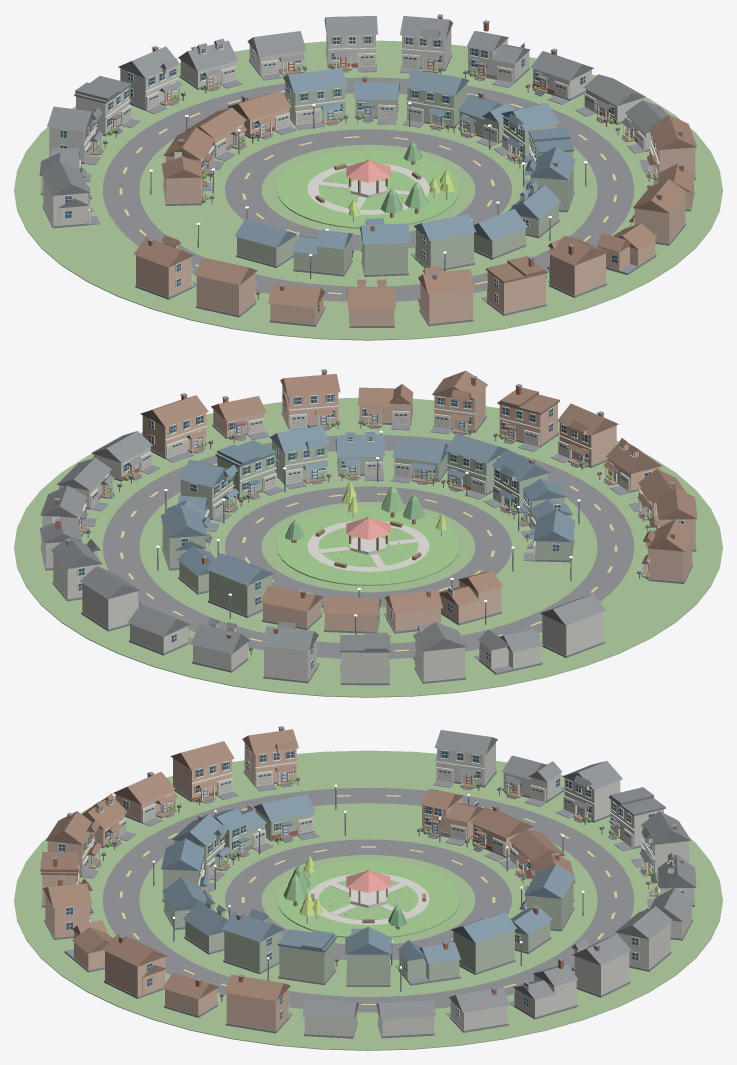
File: founder-park.glb
The picture shows the model from 3 angles, top to bottom: view 1: azimuth 30°, elevation 25°; view 2: azimuth 150°, elevation 25°; view 3: azimuth 270°, elevation 25°; orthographic projection.
Parts seen in each view (by area): view 1: pad.003, ringroad.003, ringroad.002, lawn.001, suburban_44_double_garage.001, suburban_42_side_garage_two.001, suburban_50_garage_colonial.001, suburban_68_suburban_farmhouse.001, suburban_49_center_colonial.001, suburban_54_modern_suburban.001, suburban_53_suburban_farmhouse.001, suburban_55_front_gable.001 (+35 smaller); view 2: pad.003, ringroad.003, ringroad.002, lawn.001, suburban_59_double_garage.001, suburban_54_modern_suburban.001, suburban_72_side_garage_two.001, suburban_53_suburban_farmhouse.001, suburban_38_suburban_farmhouse.001, suburban_57_side_garage_two.001, suburban_44_double_garage.001, suburban_55_front_gable.001 (+35 smaller); view 3: pad.003, ringroad.003, ringroad.002, lawn.001, suburban_59_double_garage.001, suburban_72_side_garage_two.001, suburban_50_garage_colonial.001, suburban_57_side_garage_two.001, suburban_38_suburban_farmhouse.001, suburban_42_side_garage_two.001, suburban_49_center_colonial.001, suburban_64_center_colonial.001 (+35 smaller).
Part boxes in pixels (x1,y1,x2,y2): pad.003: (14, 40, 722, 340); ringroad.003: (102, 77, 634, 301); ringroad.002: (225, 129, 511, 250); lawn.001: (276, 150, 460, 228); suburban_44_double_garage.001: (282, 68, 347, 129); suburban_42_side_garage_two.001: (403, 69, 469, 131); suburban_50_garage_colonial.001: (194, 257, 260, 317); suburban_68_suburban_farmhouse.001: (118, 46, 185, 113); suburban_49_center_colonial.001: (133, 235, 196, 299); suburban_54_modern_suburban.001: (481, 256, 547, 315); suburban_53_suburban_farmhouse.001: (418, 266, 474, 326); suburban_55_front_gable.001: (546, 235, 608, 297); pad.003: (14, 397, 722, 697); ringroad.003: (102, 434, 634, 658); ringroad.002: (225, 486, 511, 607); lawn.001: (276, 507, 460, 585); suburban_59_double_garage.001: (140, 393, 213, 462); suburban_54_modern_suburban.001: (493, 384, 559, 451); suburban_72_side_garage_two.001: (538, 594, 605, 657); suburban_53_suburban_farmhouse.001: (550, 403, 618, 470); suburban_38_suburban_farmhouse.001: (270, 423, 330, 489); suburban_57_side_garage_two.001: (280, 369, 340, 430); suburban_44_double_garage.001: (206, 553, 274, 617); suburban_55_front_gable.001: (430, 370, 487, 436); pad.003: (14, 750, 722, 1050); ringroad.003: (102, 787, 634, 1012); ringroad.002: (225, 839, 511, 959); lawn.001: (276, 860, 460, 937); suburban_59_double_garage.001: (224, 974, 292, 1033); suburban_72_side_garage_two.001: (433, 730, 497, 790); suburban_50_garage_colonial.001: (170, 741, 238, 805); suburban_57_side_garage_two.001: (102, 934, 166, 998); suburban_38_suburban_farmhouse.001: (222, 909, 283, 974); suburban_42_side_garage_two.001: (451, 912, 517, 974); suburban_49_center_colonial.001: (242, 726, 299, 791); suburban_64_center_colonial.001: (571, 934, 631, 997).
Size of the model in its own units: 116 by 8.48 by 116.
